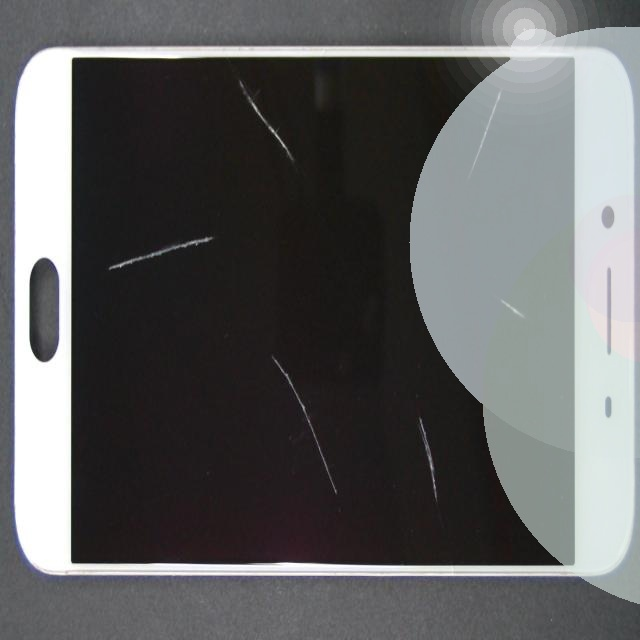scratch: (241, 241, 640, 640), (294, 181, 640, 455), (219, 278, 485, 619), (272, 1, 640, 165), (178, 86, 279, 341), (193, 108, 427, 177)
